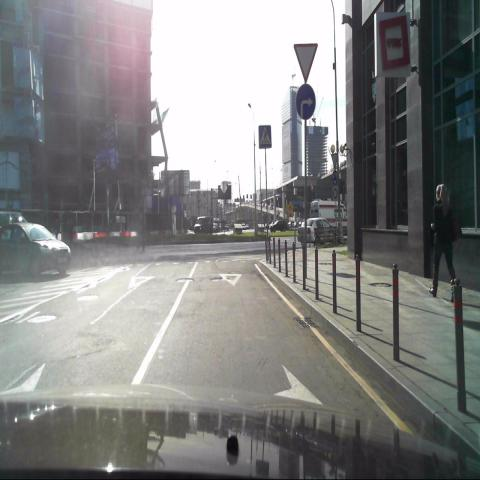2_4: (293, 42, 319, 84)
